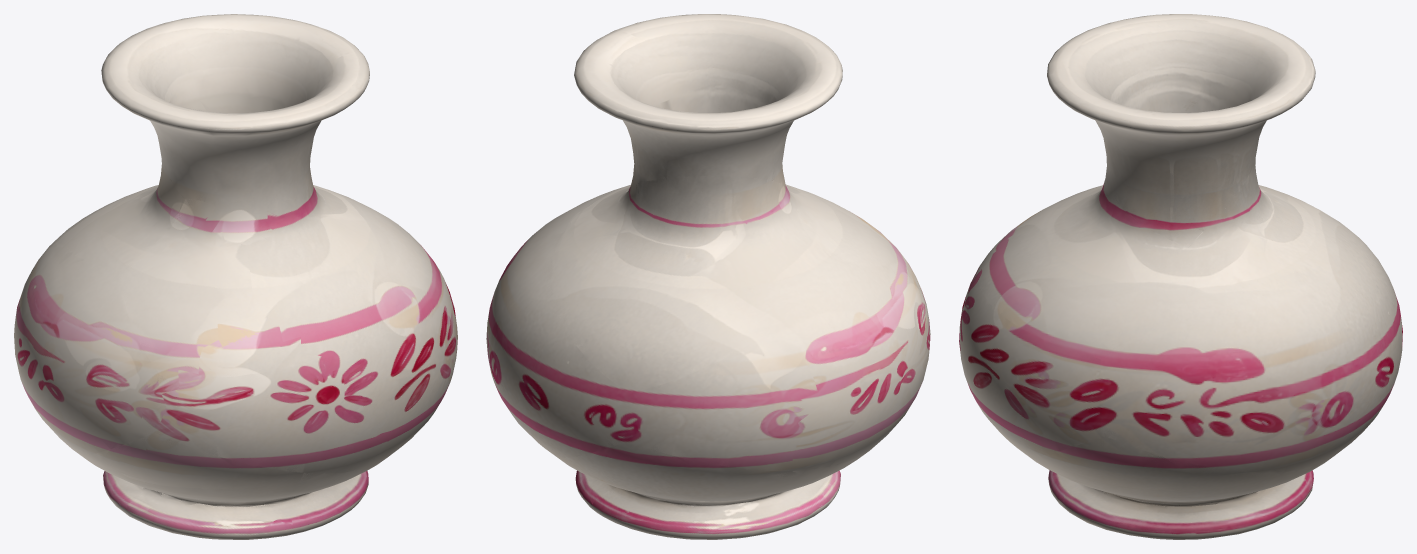
Rendered from Vase_Squat_Set.fbx.
The picture shows the model from 3 angles, left to right: view 1: azimuth 30°, elevation 25°; view 2: azimuth 150°, elevation 25°; view 3: azimuth 270°, elevation 25°; orthographic projection.
Visible parts, largest first — view 1: Vase_Squat_Intact, Vase_Squat_Shard_07, Vase_Squat_Shard_09, Vase_Squat_Shard_04, Vase_Squat_Shard_06, Vase_Squat_Shard_01, Vase_Squat_Shard_08, Vase_Squat_Shard_03, Vase_Squat_Shard_02; view 2: Vase_Squat_Intact, Vase_Squat_Shard_08, Vase_Squat_Shard_06, Vase_Squat_Shard_09, Vase_Squat_Shard_05, Vase_Squat_Shard_03, Vase_Squat_Shard_07, Vase_Squat_Shard_01; view 3: Vase_Squat_Intact, Vase_Squat_Shard_05, Vase_Squat_Shard_09, Vase_Squat_Shard_07, Vase_Squat_Shard_02, Vase_Squat_Shard_04, Vase_Squat_Shard_08, Vase_Squat_Shard_03.
Boxes of the visible parts, x1,y1,x2,y2 form: Vase_Squat_Intact: (14,14,455,539); Vase_Squat_Shard_07: (121,190,437,379); Vase_Squat_Shard_09: (101,14,369,201); Vase_Squat_Shard_04: (155,272,457,473); Vase_Squat_Shard_06: (14,241,163,455); Vase_Squat_Shard_01: (82,433,380,539); Vase_Squat_Shard_08: (55,157,337,268); Vase_Squat_Shard_03: (78,453,144,516); Vase_Squat_Shard_02: (324,471,368,511); Vase_Squat_Intact: (487,14,929,539); Vase_Squat_Shard_08: (551,176,835,393); Vase_Squat_Shard_06: (627,263,930,470); Vase_Squat_Shard_09: (574,14,842,187); Vase_Squat_Shard_05: (486,206,629,457); Vase_Squat_Shard_03: (563,441,860,539); Vase_Squat_Shard_07: (578,172,916,277); Vase_Squat_Shard_01: (807,470,840,506); Vase_Squat_Intact: (959,15,1402,539); Vase_Squat_Shard_05: (1100,289,1402,472); Vase_Squat_Shard_09: (1047,14,1315,248); Vase_Squat_Shard_07: (979,176,1197,358); Vase_Squat_Shard_02: (1028,436,1328,539); Vase_Squat_Shard_04: (959,269,1103,456); Vase_Squat_Shard_08: (1188,155,1394,296); Vase_Squat_Shard_03: (1273,470,1313,511).
Bounding box in the file's own units: 0.2226 × 0.234 × 0.2227.
